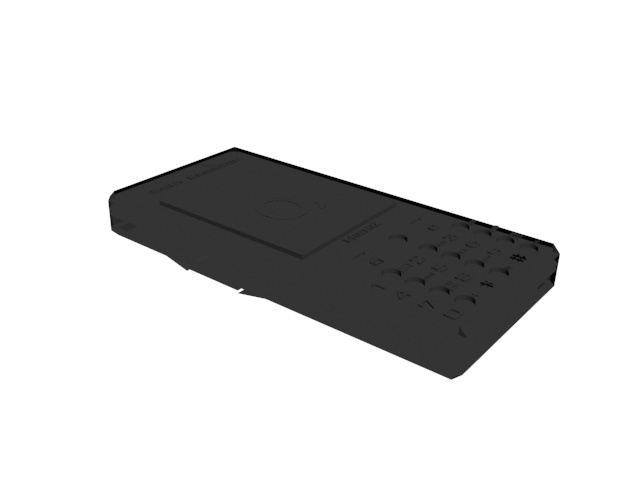mobile_phone: (105, 145, 568, 384)
